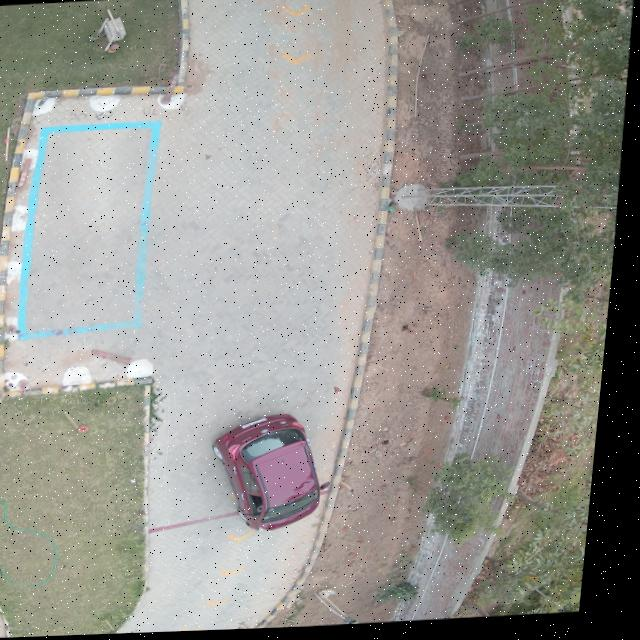car: (221, 416, 337, 533)
